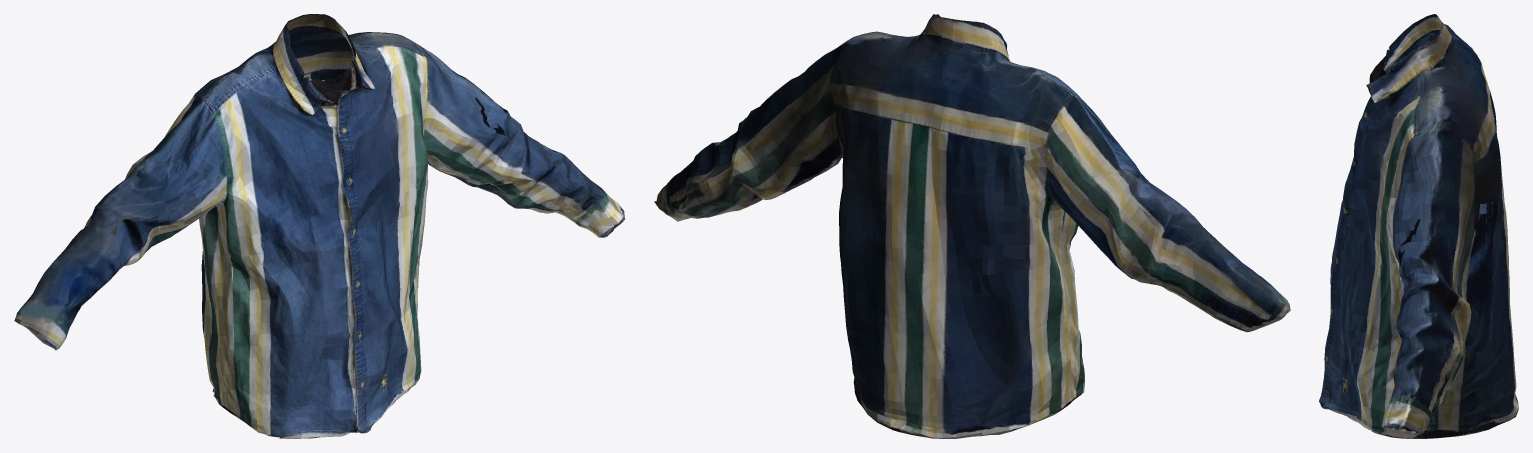
The model's file is shirt1.glb.
The picture shows the model from 3 angles, left to right: view 1: azimuth 30°, elevation 25°; view 2: azimuth 150°, elevation 25°; view 3: azimuth 270°, elevation 25°; orthographic projection. The views are drawn at different scales.
Parts seen in each view (by area): view 1: StripeShirt; view 2: StripeShirt; view 3: StripeShirt.
Boxes of the visible parts, box(x1,y1,x2,y2) form: StripeShirt: box(14, 14, 624, 438); StripeShirt: box(654, 14, 1290, 438); StripeShirt: box(1319, 14, 1518, 438).
Size of the model in its own units: 1.36 by 0.8095 by 0.3825.
Materials: 1 (1 with a texture image).
